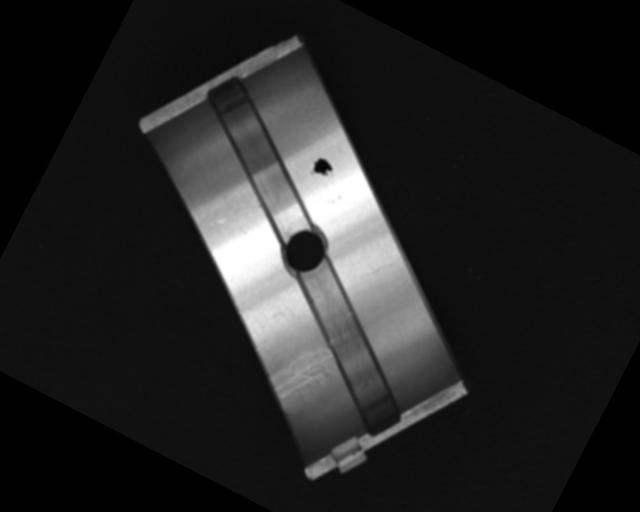blot: (306, 154, 340, 187)
gap: (251, 249, 446, 437), (167, 69, 352, 242)
hole: (275, 221, 332, 280)
nick: (208, 186, 262, 242), (359, 249, 395, 290)
scratch: (261, 331, 344, 421)
